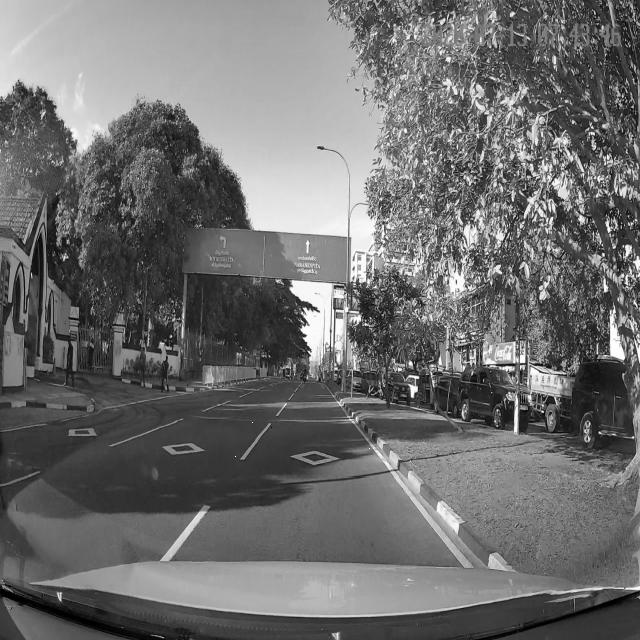diamond: (218, 422, 398, 477)
